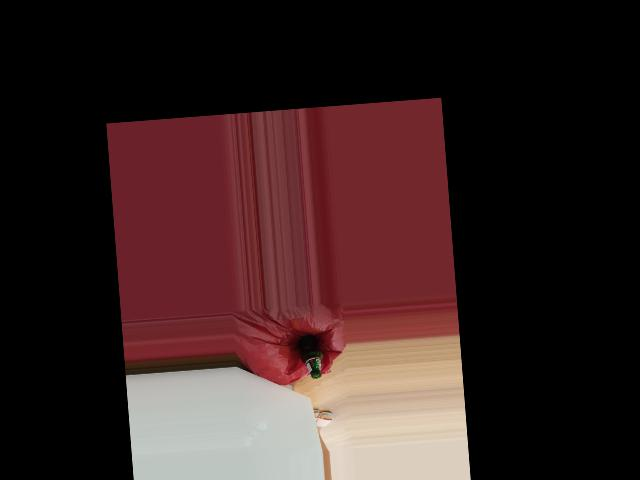beer: (297, 333, 323, 379)
